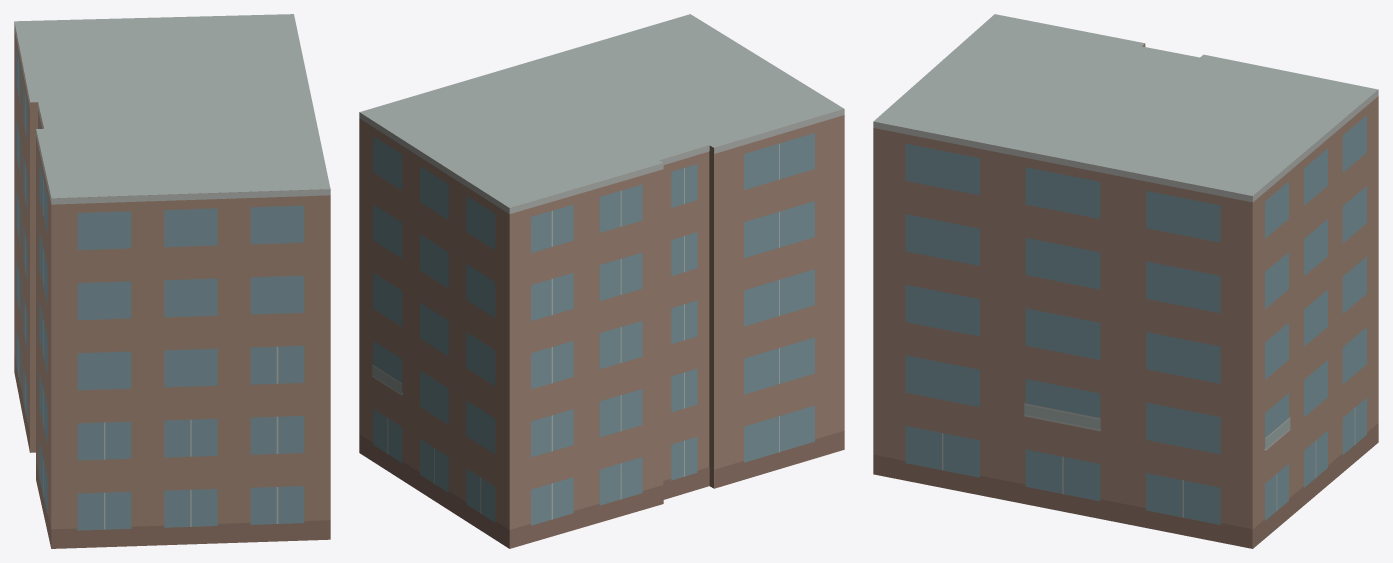
File: survey-upis-32970877.glb
3 renders of one model, left to right at view 1: azimuth 30°, elevation 25°; view 2: azimuth 150°, elevation 25°; view 3: azimuth 270°, elevation 25°, orthographic. The views are drawn at different scales.
Visible parts, largest first — view 1: survey-upis-32970877.tmp; view 2: survey-upis-32970877.tmp; view 3: survey-upis-32970877.tmp.
Part boxes in pixels (<box>): survey-upis-32970877.tmp: <box>14,14,330,548</box>; survey-upis-32970877.tmp: <box>359,14,844,548</box>; survey-upis-32970877.tmp: <box>873,14,1378,548</box>.
Bounding box in the file's own units: 15.06 × 13.6 × 17.66.
